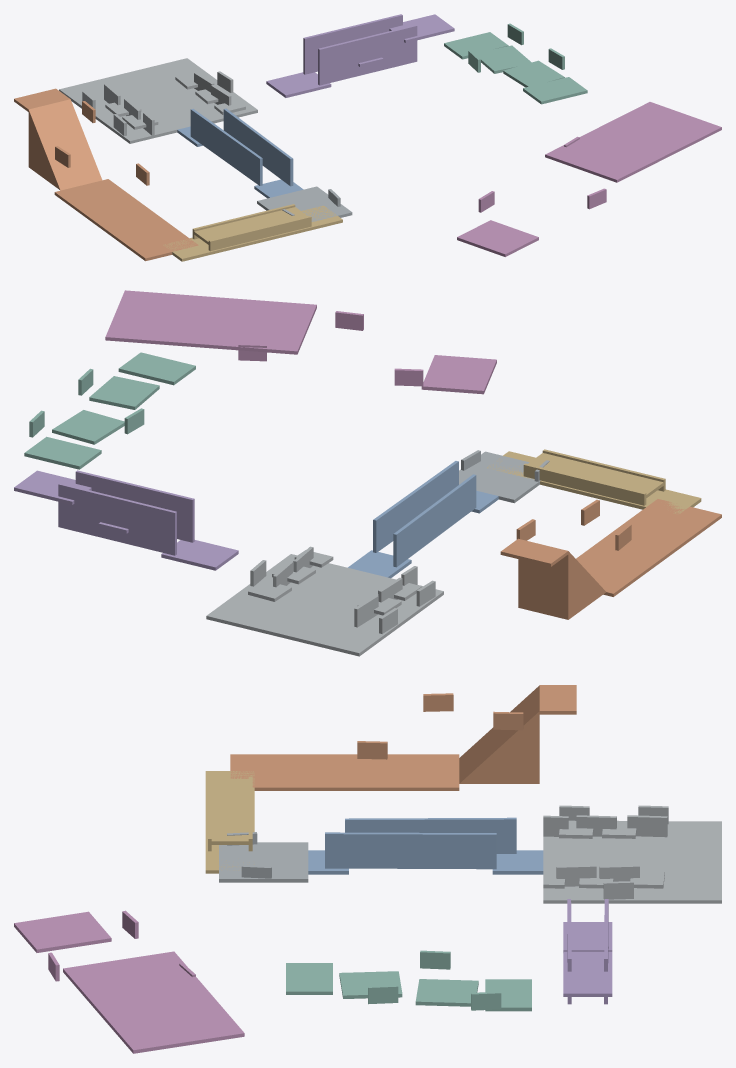
Rendered from Level_Freestyle_01_Proxy_V04.glb.
3 views of the same model, one above another, from view 1: azimuth 30°, elevation 25°; view 2: azimuth 150°, elevation 25°; view 3: azimuth 270°, elevation 25° (orthographic). The views are drawn at different scales.
Visible parts, largest first — view 1: PROXY_05_DESCENT-col, PROXY_07_GRAPPLE-col, PROXY_02_ARENA-col, PROXY_03_VERTICAL-col, PROXY_01_WALLRUN-col, PROXY_04_MIXED-col, PROXY_06_SLIDE-col, PROXY_00_START-col; view 2: PROXY_02_ARENA-col, PROXY_07_GRAPPLE-col, PROXY_05_DESCENT-col, PROXY_03_VERTICAL-col, PROXY_04_MIXED-col, PROXY_01_WALLRUN-col, PROXY_06_SLIDE-col, PROXY_00_START-col; view 3: PROXY_02_ARENA-col, PROXY_05_DESCENT-col, PROXY_07_GRAPPLE-col, PROXY_01_WALLRUN-col, PROXY_04_MIXED-col, PROXY_06_SLIDE-col, PROXY_03_VERTICAL-col, PROXY_00_START-col.
Part boxes in pixels (x1,y1,x2,y2): PROXY_05_DESCENT-col: (14,88,198,261); PROXY_07_GRAPPLE-col: (457,102,721,256); PROXY_02_ARENA-col: (59,58,257,143); PROXY_03_VERTICAL-col: (266,14,454,97); PROXY_01_WALLRUN-col: (177,108,303,198); PROXY_04_MIXED-col: (444,23,587,104); PROXY_06_SLIDE-col: (163,204,342,261); PROXY_00_START-col: (257,186,352,221); PROXY_02_ARENA-col: (206,546,443,656); PROXY_07_GRAPPLE-col: (105,290,496,394); PROXY_05_DESCENT-col: (500,499,721,619); PROXY_03_VERTICAL-col: (14,470,238,570); PROXY_04_MIXED-col: (24,352,195,469); PROXY_01_WALLRUN-col: (348,461,498,578); PROXY_06_SLIDE-col: (487,449,701,513); PROXY_00_START-col: (459,450,549,503); PROXY_02_ARENA-col: (543,805,721,903); PROXY_05_DESCENT-col: (230,685,576,790); PROXY_07_GRAPPLE-col: (14,910,244,1053); PROXY_01_WALLRUN-col: (308,817,543,874); PROXY_04_MIXED-col: (286,950,531,1011); PROXY_06_SLIDE-col: (205,771,254,873); PROXY_03_VERTICAL-col: (563,899,612,1004); PROXY_00_START-col: (219,832,308,882).
Size of the model in its own units: 141 by 15.42 by 127.
